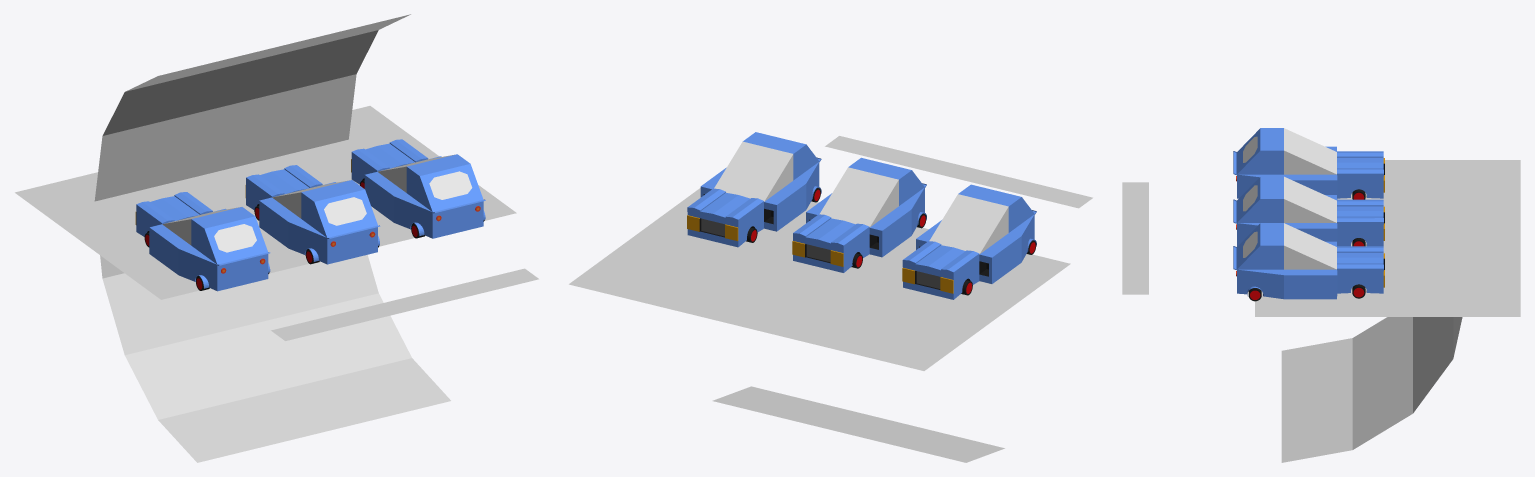
File: final-con modifiers aplicados.glb
The picture shows the model from 3 angles, left to right: view 1: azimuth 30°, elevation 25°; view 2: azimuth 150°, elevation 25°; view 3: azimuth 270°, elevation 25°; orthographic projection. The views are drawn at different scales.
Parts seen in each view (by area): view 1: tunel, carretera, front_right_wheel.002, front_right_wheel.001, front_right_wheel, test-carretera; view 2: carretera, front_right_wheel, front_right_wheel.002, front_right_wheel.001, tunel, test-carretera; view 3: carretera, tunel, front_right_wheel, front_right_wheel.002, front_right_wheel.001, test-carretera.
Boxes of the visible parts, x1=… form: tunel: x1=94, y1=14, x2=450, y2=462; carretera: x1=15, y1=106, x2=516, y2=299; front_right_wheel.002: x1=135, y1=192, x2=270, y2=291; front_right_wheel.001: x1=245, y1=165, x2=380, y2=264; front_right_wheel: x1=351, y1=139, x2=485, y2=238; test-carretera: x1=271, y1=268, x2=538, y2=340; carretera: x1=569, y1=188, x2=1070, y2=370; front_right_wheel: x1=687, y1=132, x2=821, y2=247; front_right_wheel.002: x1=902, y1=184, x2=1036, y2=299; front_right_wheel.001: x1=792, y1=157, x2=926, y2=272; tunel: x1=712, y1=386, x2=1004, y2=462; test-carretera: x1=825, y1=136, x2=1092, y2=208; carretera: x1=1255, y1=160, x2=1520, y2=316; tunel: x1=1281, y1=317, x2=1462, y2=462; front_right_wheel: x1=1233, y1=223, x2=1384, y2=301; front_right_wheel.002: x1=1233, y1=128, x2=1384, y2=199; front_right_wheel.001: x1=1233, y1=176, x2=1384, y2=246; test-carretera: x1=1122, y1=182, x2=1148, y2=294.
Bounding box in the file's own units: 14 × 14 × 15.
